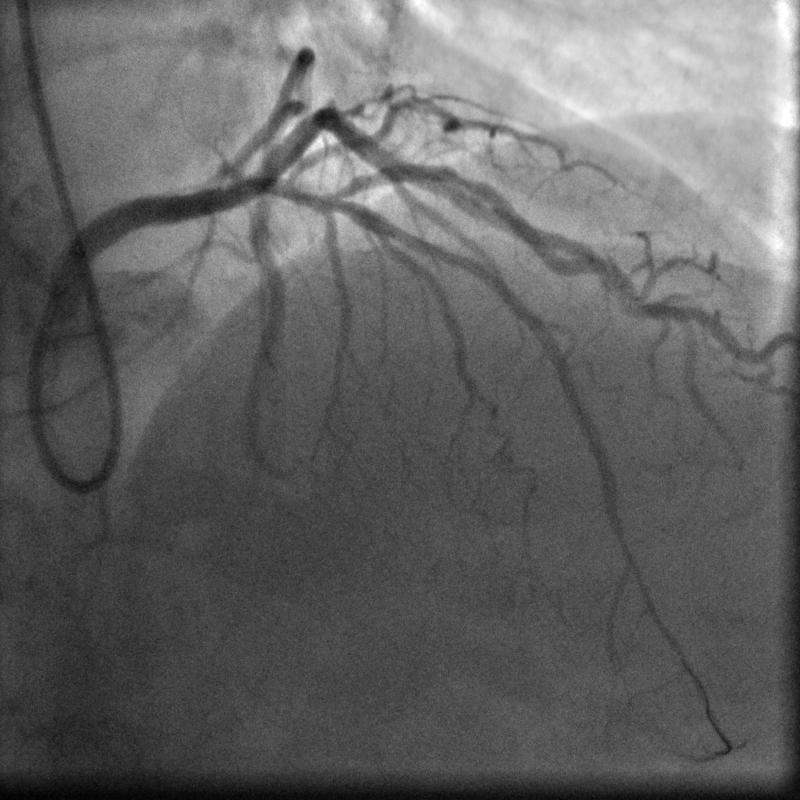Stenosis: (440, 161, 491, 198)
